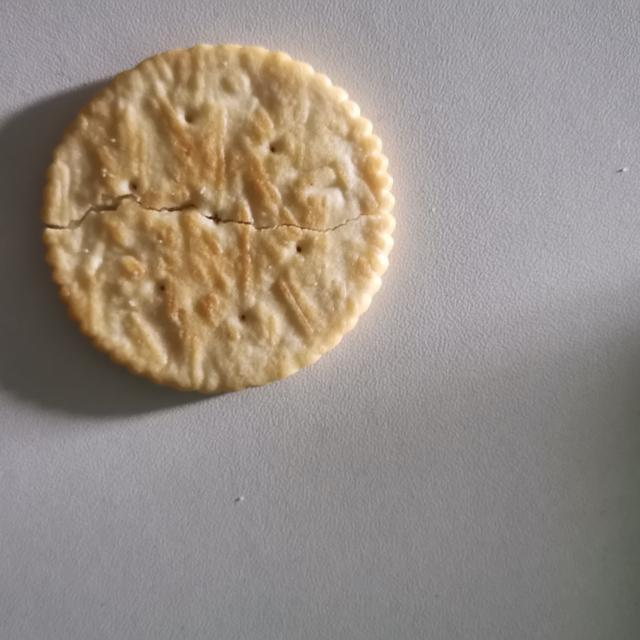Fracture: (40, 191, 393, 253)
